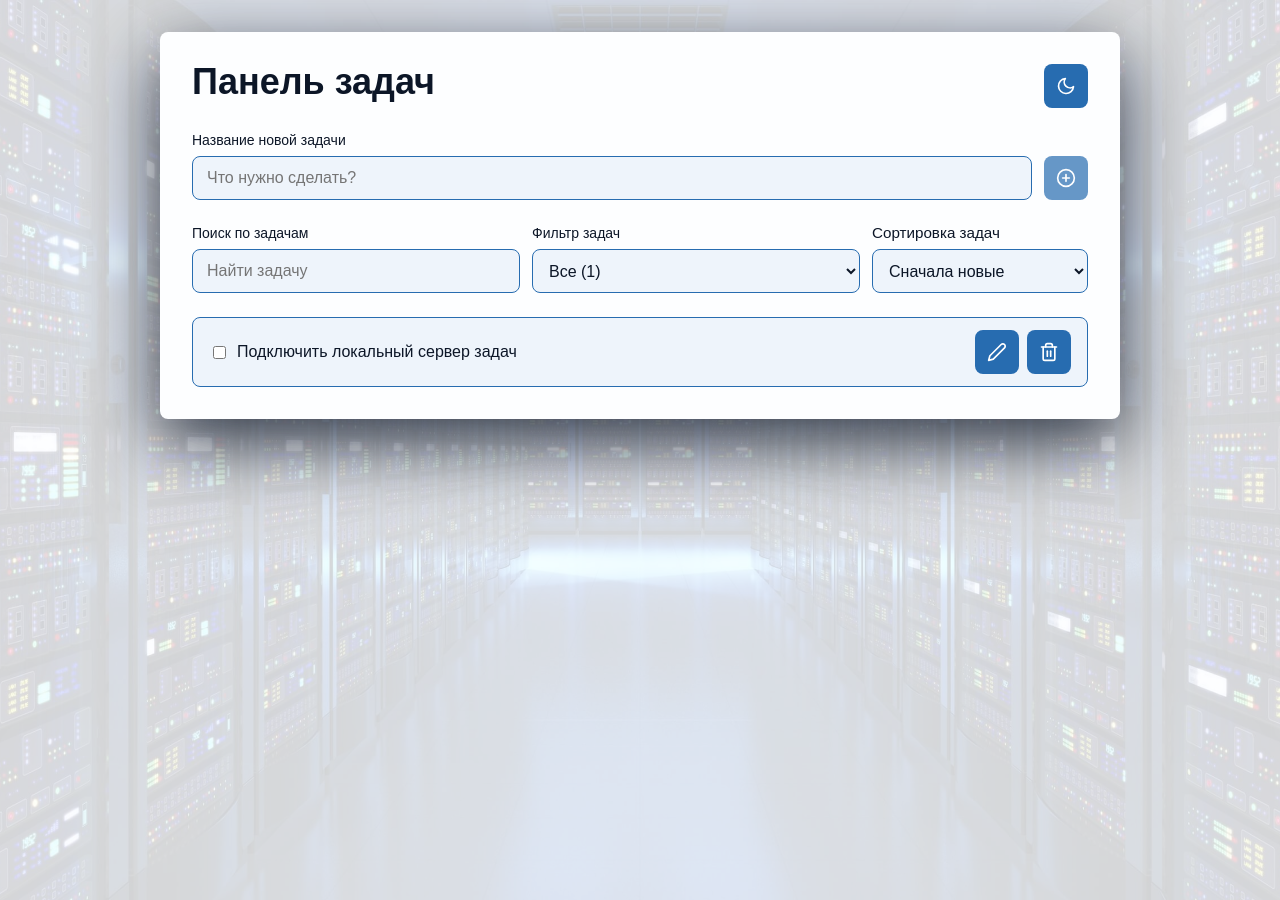
it: App › редактирует название задачи и обновляет список
Expected: the text "Подключить локальный сервер задач" is shown, left=237, top=343, right=517, bottom=361
Click the button named "Редактировать": (997, 352) left=975, top=330, right=1019, bottom=374
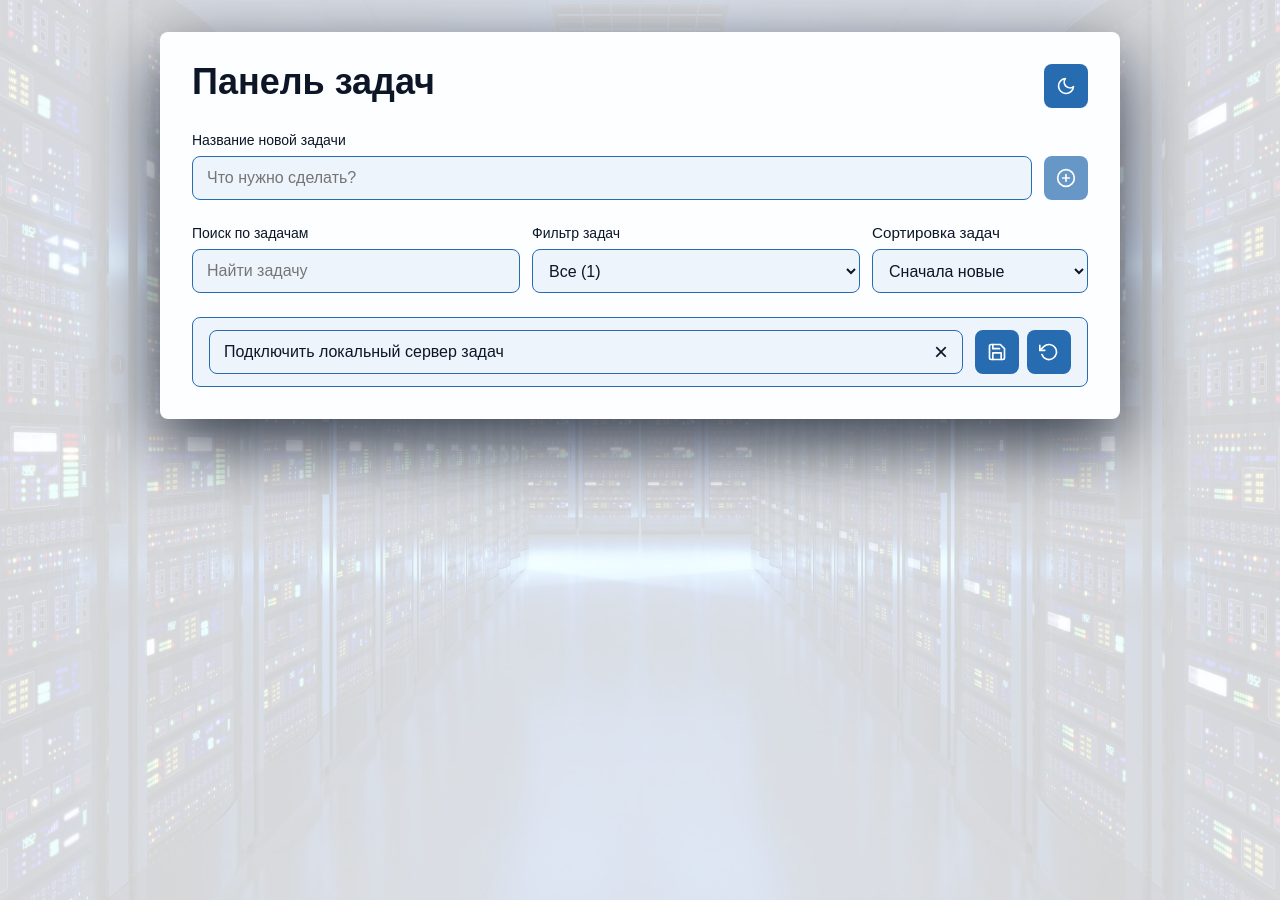
Replace the text in the field named "Название задачи" with "  Обновленная задача  ": (586, 352) left=209, top=330, right=963, bottom=374
Then press Enter
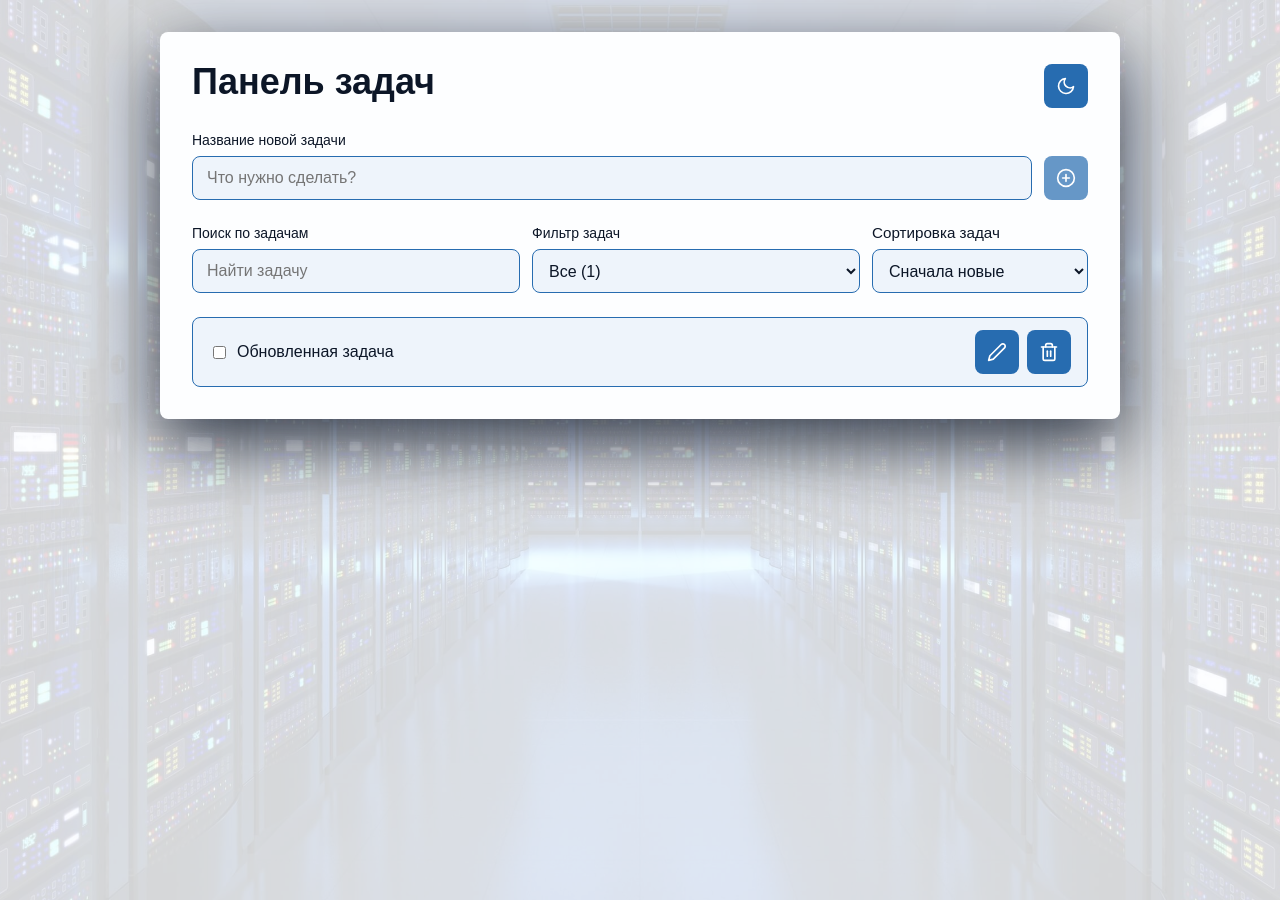
Now the text "Обновленная задача" is shown, box left=237, top=343, right=394, bottom=361
